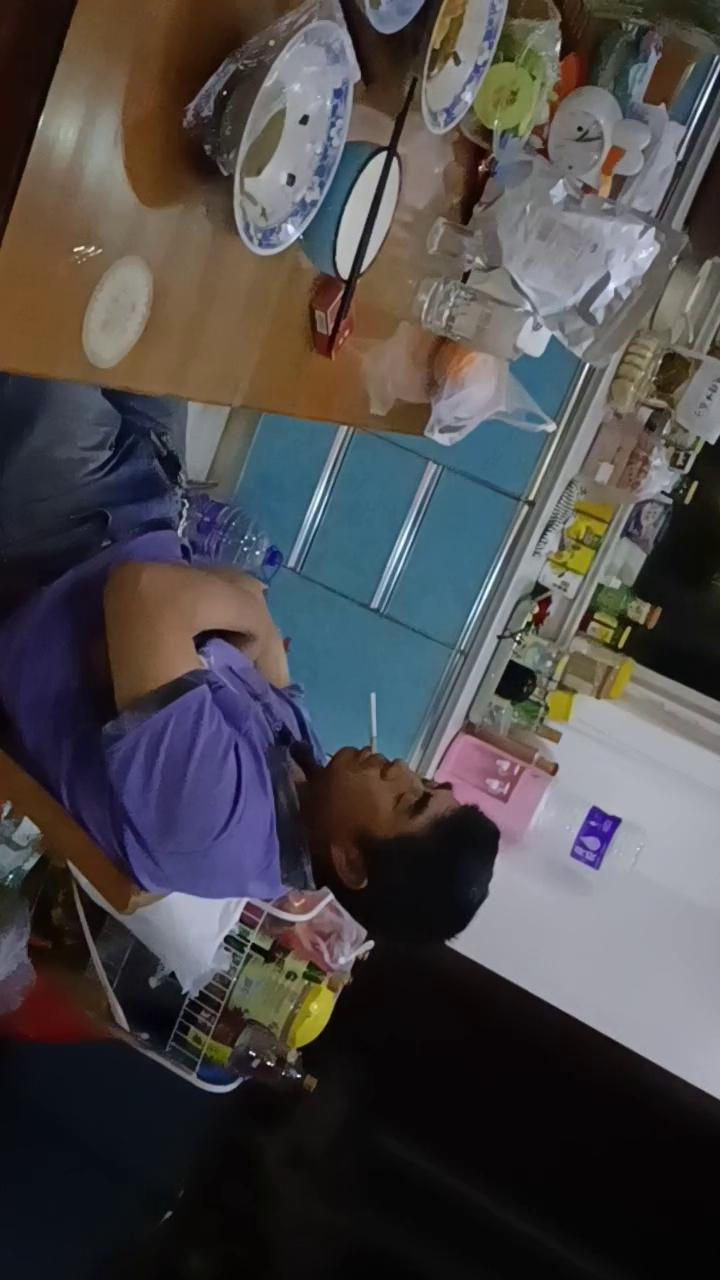smoke: (370, 691, 377, 752)
